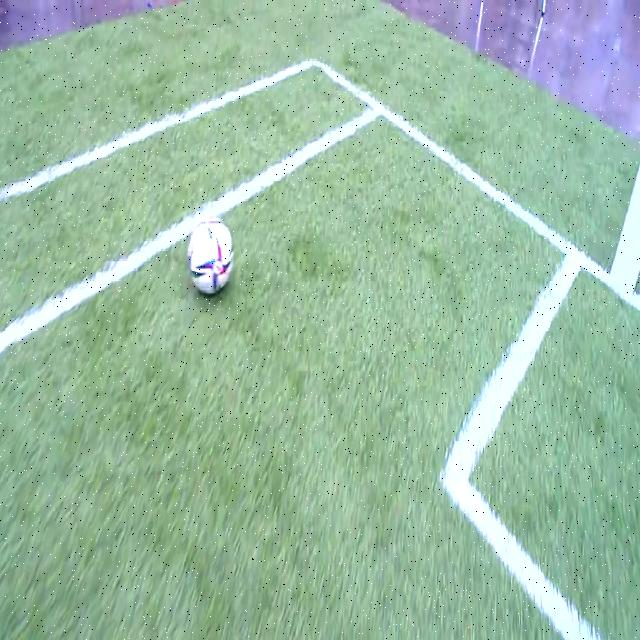ball: (188, 217, 235, 296)
